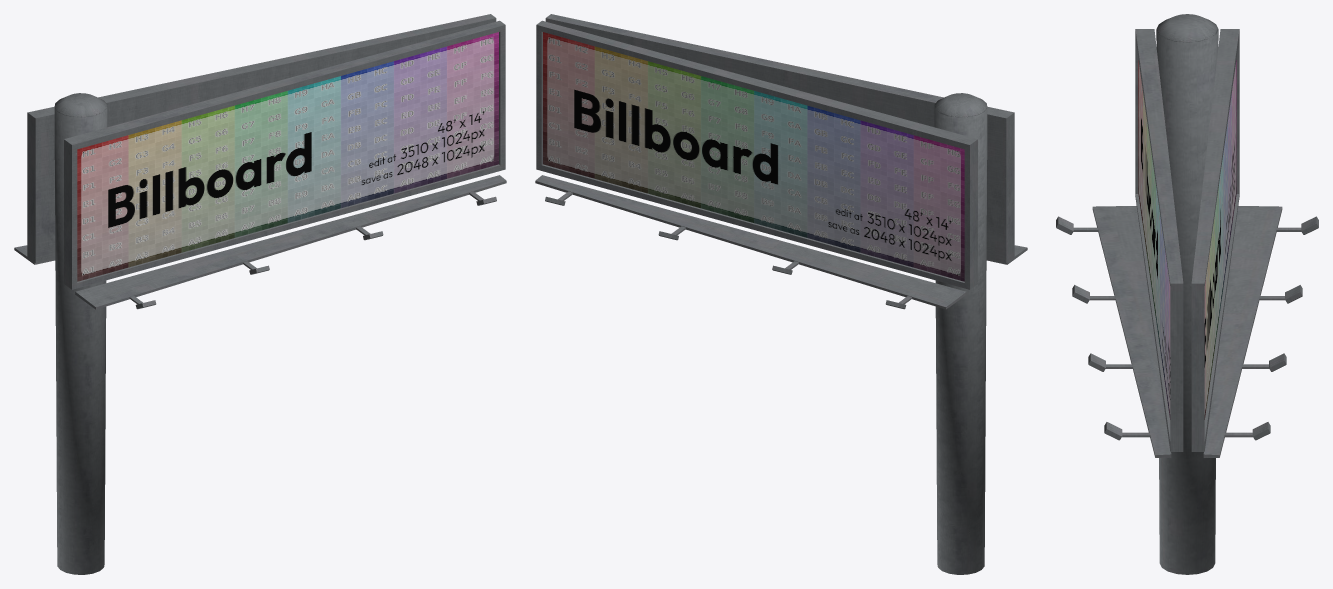
File: bill.glb
3 views of the same model, side by side, from view 1: azimuth 30°, elevation 25°; view 2: azimuth 150°, elevation 25°; view 3: azimuth 270°, elevation 25° (orthographic). The views are drawn at different scales.
Parts seen in each view (by area): view 1: billboard-2.baked_0; view 2: billboard-2.baked_0; view 3: billboard-2.baked_0.
Boxes of the visible parts, bbox=[...] form: billboard-2.baked_0: bbox=[14, 14, 506, 574]; billboard-2.baked_0: bbox=[535, 14, 1027, 574]; billboard-2.baked_0: bbox=[1056, 14, 1318, 574].
Bounding box in the file's own units: 18.68 × 18.52 × 8.15.
2 materials, 2 textured.
